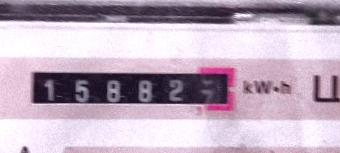1: (42, 76, 56, 102)
2: (168, 76, 184, 102)
5: (73, 77, 89, 102)
7: (199, 86, 213, 102)
8: (104, 77, 121, 102), (136, 76, 152, 101)
screen: (18, 56, 245, 120)
